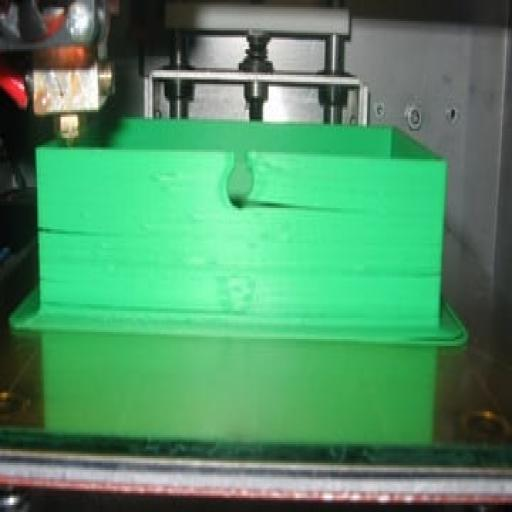cracks: (202, 168, 336, 246)
